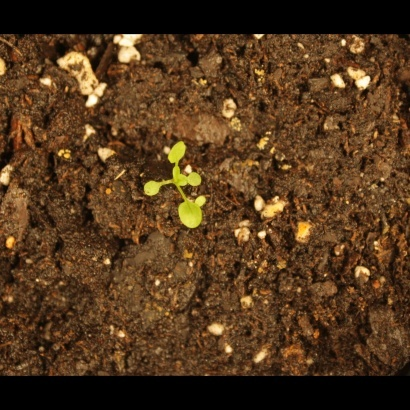leaf: (175, 198, 207, 233), (137, 176, 165, 201), (167, 140, 190, 165), (189, 169, 212, 192)
